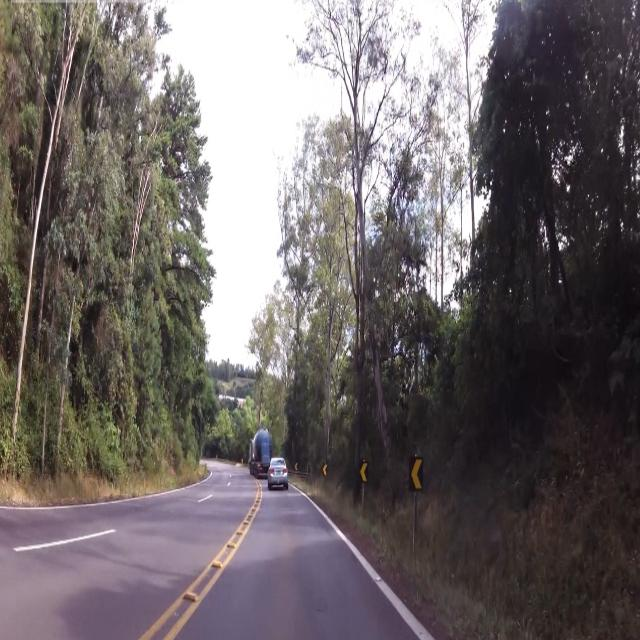Del: (407, 450, 424, 494), (360, 458, 368, 482)
